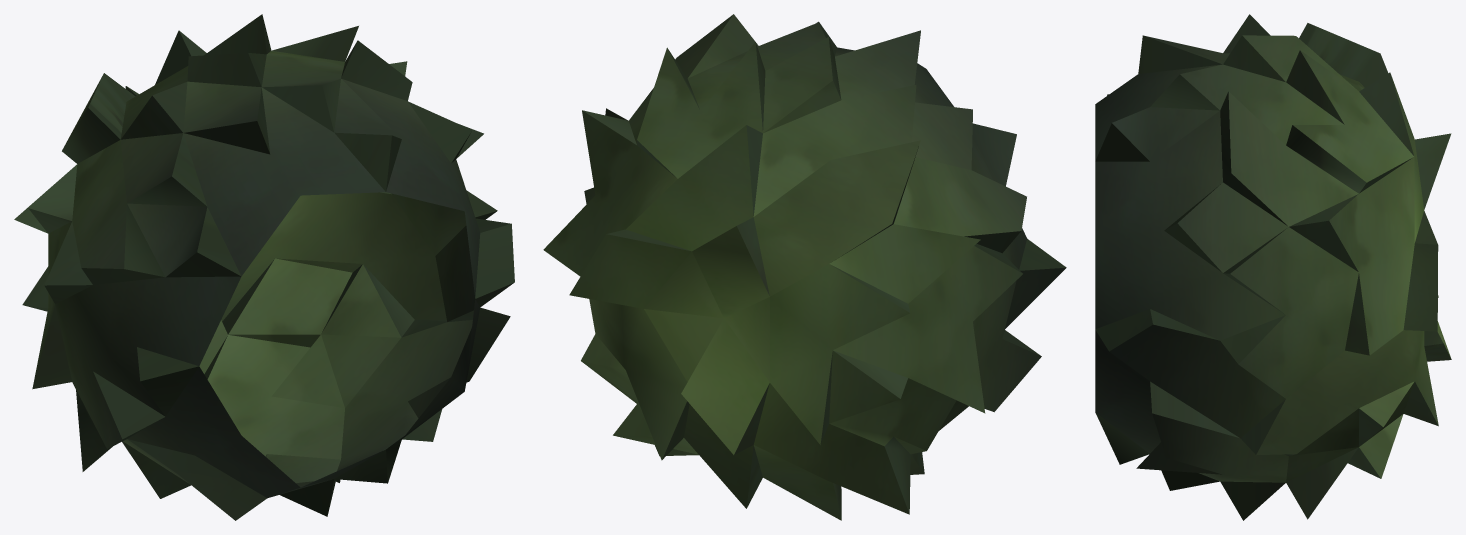
The model's file is Bush_A.fbx.
3 renders of one model, left to right at view 1: azimuth 30°, elevation 25°; view 2: azimuth 150°, elevation 25°; view 3: azimuth 270°, elevation 25°, orthographic. The views are drawn at different scales.
Parts seen in each view (by area): view 1: Bush_A; view 2: Bush_A; view 3: Bush_A.
Part boxes in pixels (x1,y1,x2,y2): Bush_A: (14, 14, 514, 520); Bush_A: (543, 14, 1066, 520); Bush_A: (1095, 14, 1451, 520).
Size of the model in its own units: 58.53 by 57.47 by 41.47.
